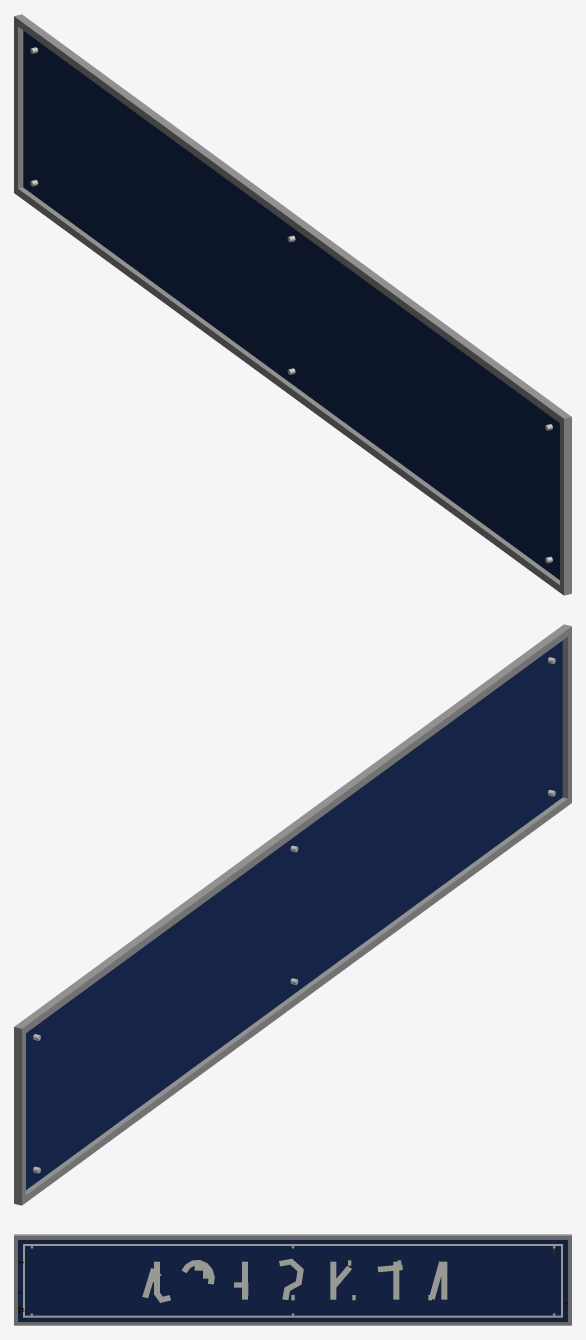
Rendered from sign_903_wall.glb.
3 views of the same model, one above another, from view 1: azimuth 30°, elevation 25°; view 2: azimuth 150°, elevation 25°; view 3: azimuth 270°, elevation 25° (orthographic). The views are drawn at different scales.
Parts seen in each view (by area): view 1: tafel, rahmen0.33, rahmen-0.36, rahmen_s-2.03, rahmen_s2.00; view 2: tafel, rahmen0.33, rahmen-0.36, rahmen_s2.00, rahmen_s-2.03; view 3: tafel, rahmen0.33, rahmen-0.36, rand-1.96-0.30, rand-1.960.28, name_3_0, rahmen_s-2.03, rahmen_s2.00, name_0_0, name_1_0, name_4_0, name_5_0 (+6 smaller).
Boxes of the visible parts, bbox=[...] form: tafel: bbox=[23, 30, 559, 579]; rahmen0.33: bbox=[14, 14, 571, 425]; rahmen-0.36: bbox=[14, 186, 571, 595]; rahmen_s-2.03: bbox=[560, 423, 571, 588]; rahmen_s2.00: bbox=[14, 24, 23, 188]; tafel: bbox=[26, 640, 562, 1189]; rahmen0.33: bbox=[14, 624, 571, 1035]; rahmen-0.36: bbox=[14, 796, 571, 1205]; rahmen_s2.00: bbox=[14, 1033, 25, 1198]; rahmen_s-2.03: bbox=[562, 634, 571, 798]; tafel: bbox=[18, 1240, 567, 1321]; rahmen0.33: bbox=[14, 1234, 571, 1239]; rahmen-0.36: bbox=[14, 1322, 571, 1325]; rand-1.96-0.30: bbox=[23, 1315, 562, 1317]; rand-1.960.28: bbox=[23, 1244, 562, 1245]; name_3_0: bbox=[279, 1258, 303, 1299]; rahmen_s-2.03: bbox=[14, 1240, 17, 1321]; rahmen_s2.00: bbox=[568, 1240, 571, 1321]; name_0_0: bbox=[154, 1261, 170, 1302]; name_1_0: bbox=[181, 1260, 214, 1284]; name_4_0: bbox=[330, 1261, 336, 1299]; name_5_0: bbox=[393, 1261, 399, 1299].
Size of the model in its own units: 0.034 by 0.72 by 4.06.
